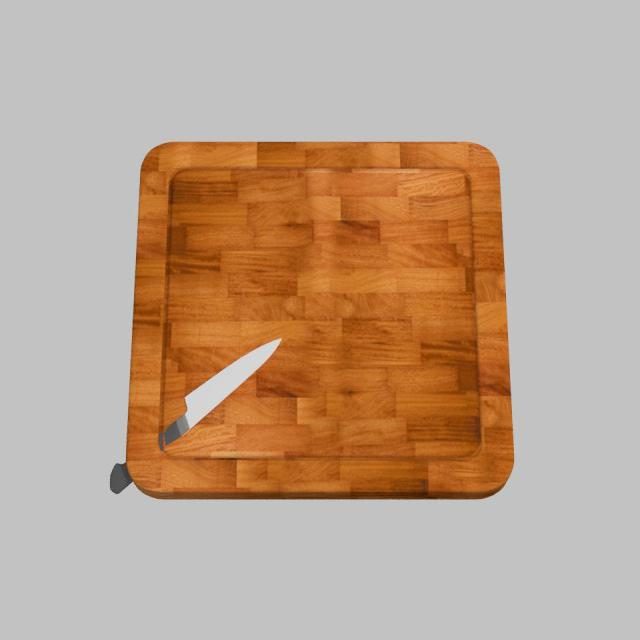knife: (110, 420, 183, 494)
